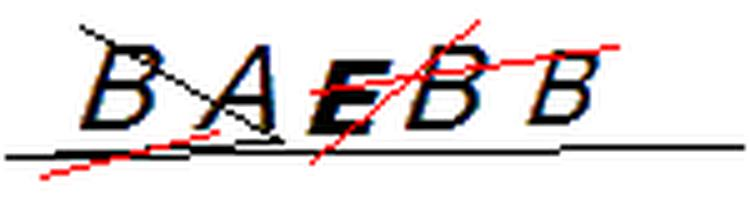A: (185, 33, 291, 139)
B: (75, 33, 167, 136), (399, 39, 493, 134), (520, 43, 606, 129)
E: (304, 50, 397, 138)
